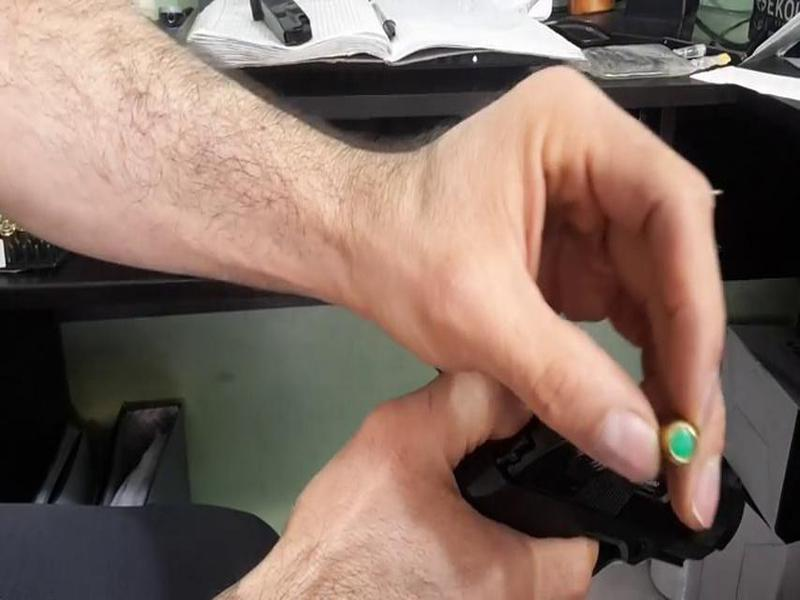Pistola: (431, 373, 765, 599)
